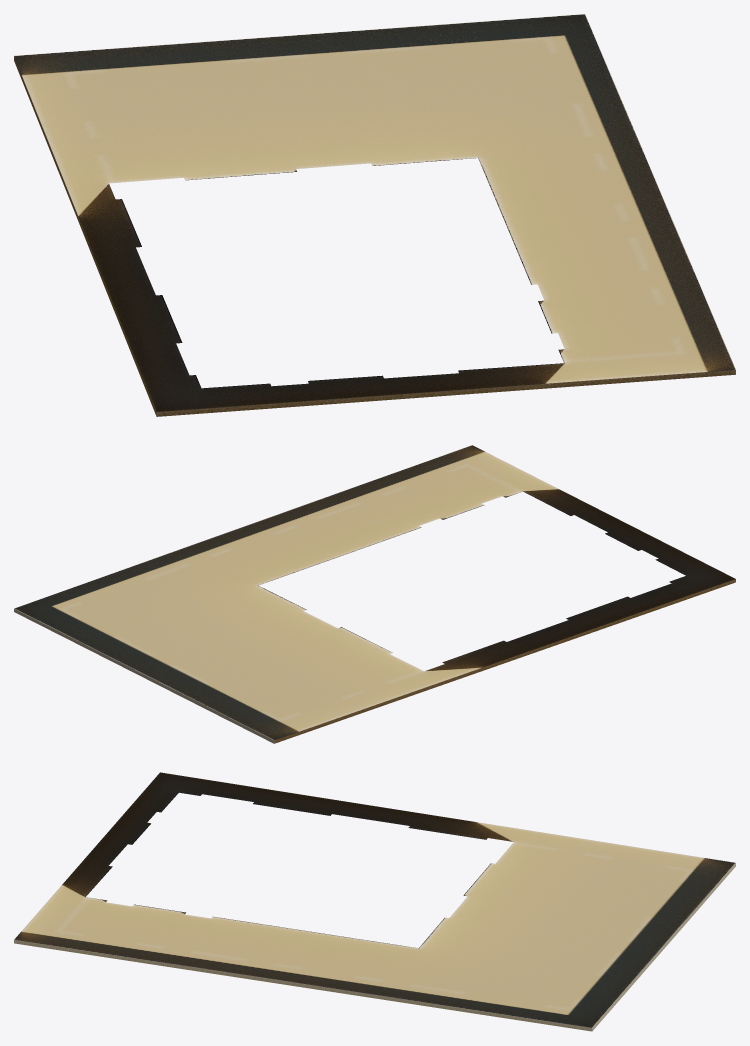
File: Building_07_Rooftop.fbx
3 renders of one model, top to bottom at view 1: azimuth 30°, elevation 25°; view 2: azimuth 150°, elevation 25°; view 3: azimuth 270°, elevation 25°, orthographic. The views are drawn at different scales.
Parts seen in each view (by area): view 1: Building_07_Rooftop; view 2: Building_07_Rooftop; view 3: Building_07_Rooftop.
Boxes of the visible parts, <box> form: Building_07_Rooftop: <box>14,14,735,416</box>; Building_07_Rooftop: <box>14,445,735,743</box>; Building_07_Rooftop: <box>14,772,735,1031</box>.
Size of the model in its own units: 26.05 by 0.1664 by 31.09.
Materials: 1 (1 with a texture image).
